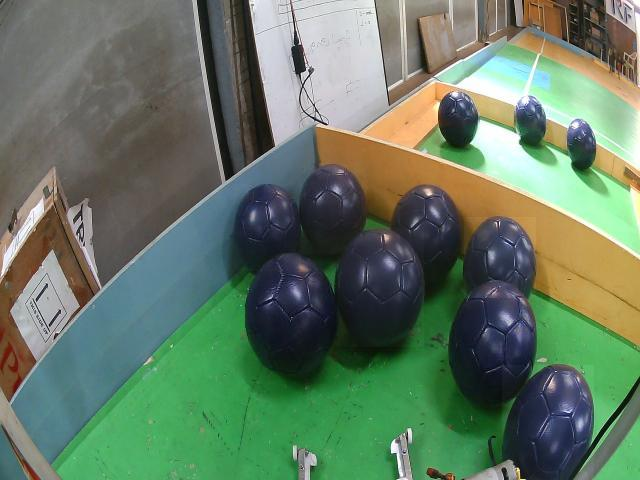kaalyya: (246, 253, 337, 377), (449, 280, 536, 406), (336, 228, 424, 347), (503, 365, 594, 480), (392, 185, 461, 285), (300, 164, 367, 255), (464, 217, 536, 298), (234, 185, 301, 271), (439, 90, 479, 148), (515, 95, 547, 145), (566, 118, 596, 170)
